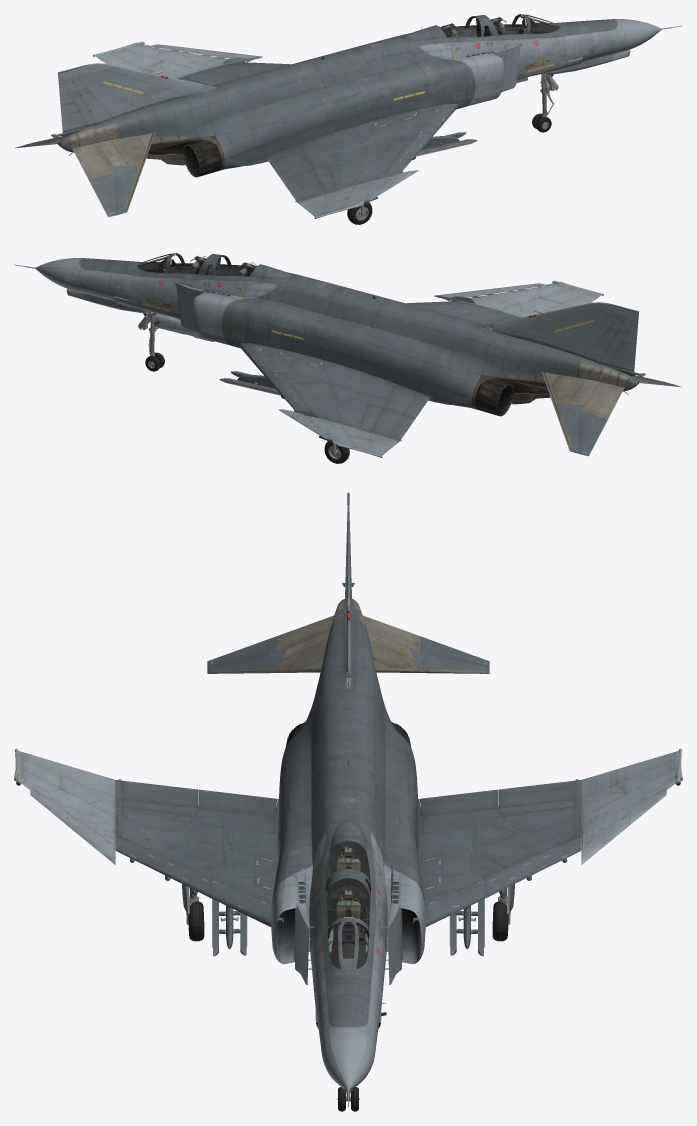
3 views of the same model, one above another, from view 1: azimuth 30°, elevation 25°; view 2: azimuth 150°, elevation 25°; view 3: azimuth 270°, elevation 25° (orthographic). The views are drawn at different scales.
Visible parts, largest first — view 1: f4e-airframe (×3); view 2: f4e-airframe (×3); view 3: f4e-airframe (×3).
Boxes of the visible parts, <box> form: f4e-airframe (×3): <box>15,14,682,224</box>; f4e-airframe (×3): <box>14,253,681,463</box>; f4e-airframe (×3): <box>14,492,682,1111</box>.
Size of the model in its own units: 20.07 by 5.38 by 12.31.
1 material, 1 textured.
